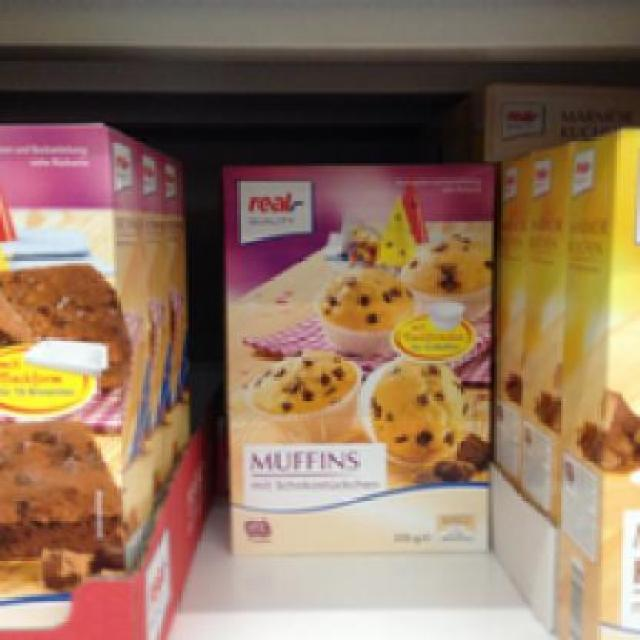Cake: (214, 157, 500, 566), (0, 117, 143, 600)
